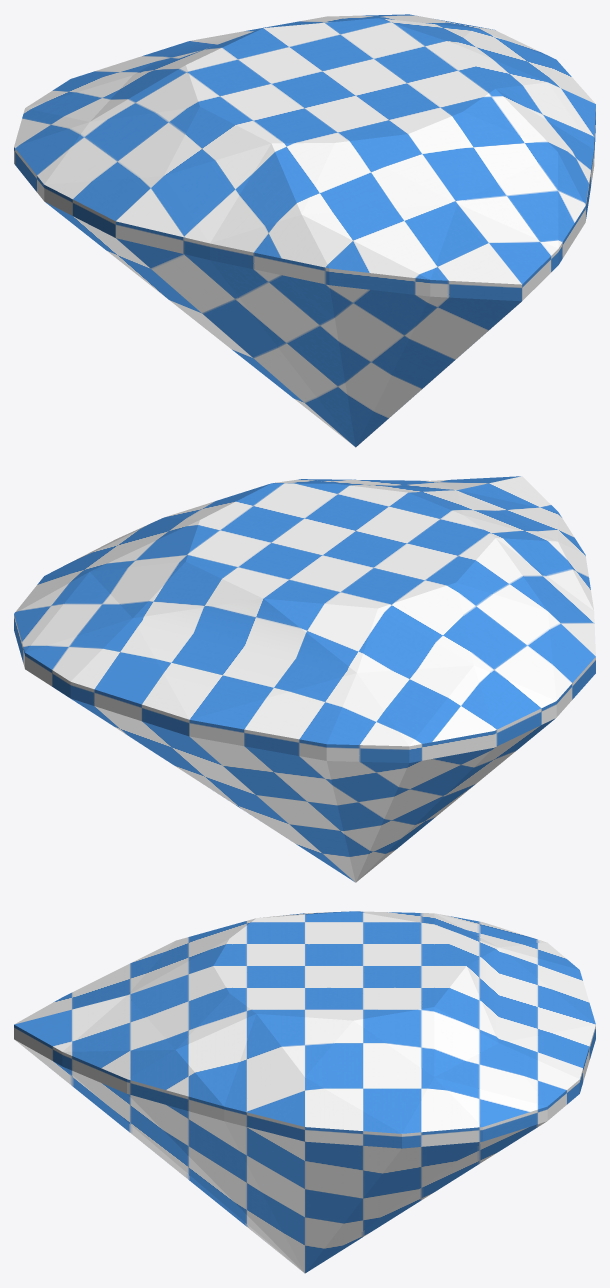
Rendered from PearCutPointy.FBX.
3 views of the same model, one above another, from view 1: azimuth 30°, elevation 25°; view 2: azimuth 150°, elevation 25°; view 3: azimuth 270°, elevation 25° (orthographic). The views are drawn at different scales.
Parts seen in each view (by area): view 1: PearCutPointy; view 2: PearCutPointy; view 3: PearCutPointy.
Part boxes in pixels (x1=…): PearCutPointy: x1=14, y1=14, x2=595, y2=447; PearCutPointy: x1=14, y1=476, x2=595, y2=882; PearCutPointy: x1=14, y1=911, x2=595, y2=1273.
Bounding box in the file's own units: 1.02 × 0.6667 × 1.14.
